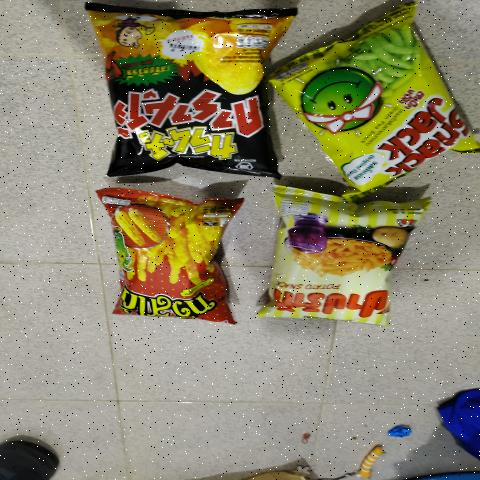karamujo: (120, 21, 262, 170)
paprika: (279, 206, 383, 320)
twisco: (303, 20, 462, 182), (112, 190, 223, 322)
